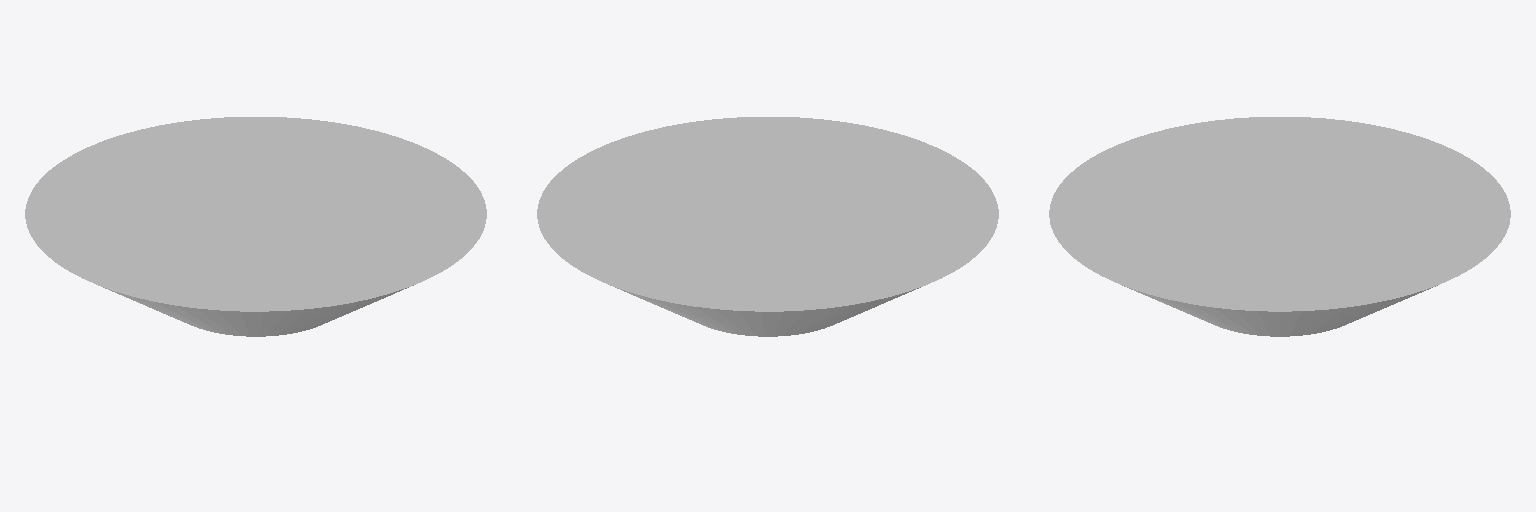
File: engine_top_updated.obj
3 renders of one model, left to right at view 1: azimuth 30°, elevation 25°; view 2: azimuth 150°, elevation 25°; view 3: azimuth 270°, elevation 25°, orthographic.
Parts seen in each view (by area): view 1: Cylinder.002; view 2: Cylinder.002; view 3: Cylinder.002.
Part boxes in pixels (left/top/right/bottom): Cylinder.002: left=25, top=117, right=486, bottom=336; Cylinder.002: left=537, top=117, right=998, bottom=336; Cylinder.002: left=1049, top=117, right=1510, bottom=336.
Bounding box in the file's own units: 2 × 0.4 × 2.